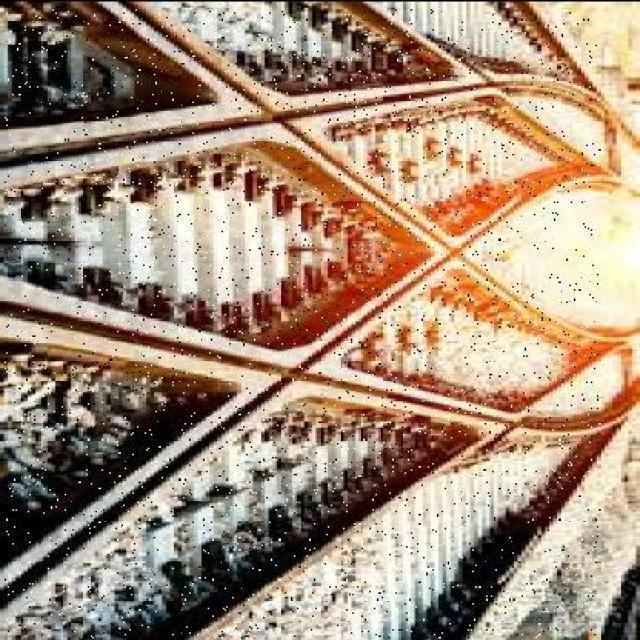rail: (6, 9, 602, 638)
